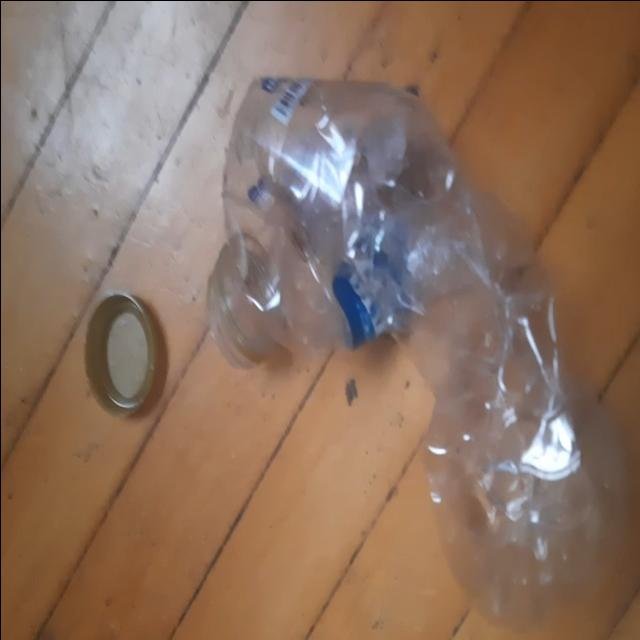Plastic: (206, 75, 628, 634)
